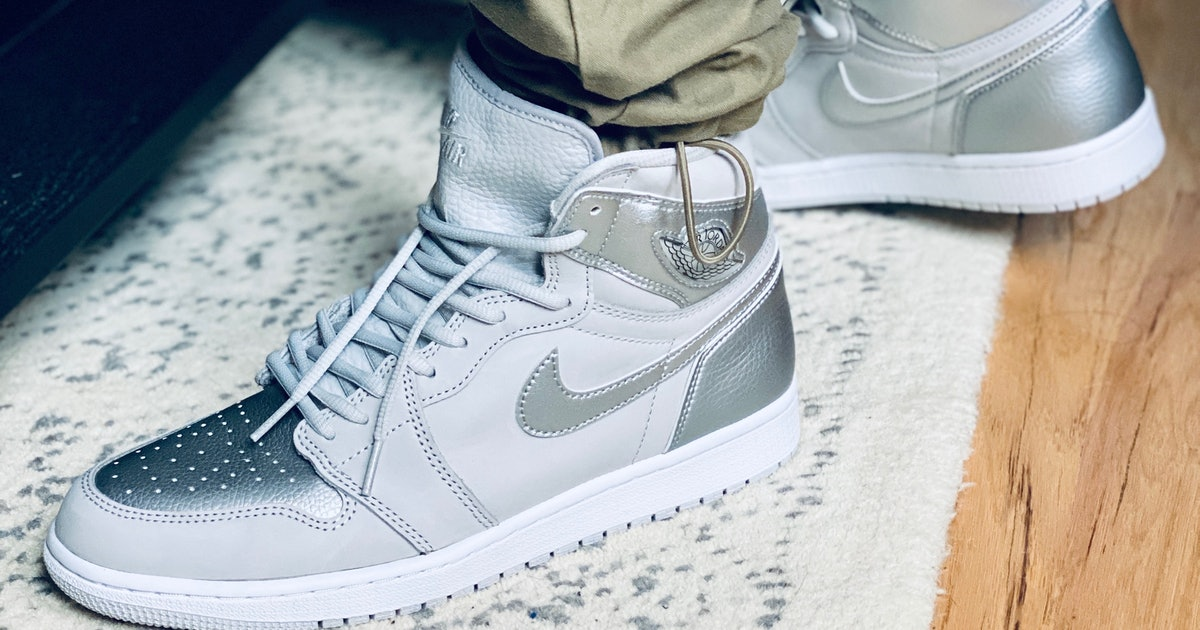Jordan 1: (35, 20, 816, 623)
